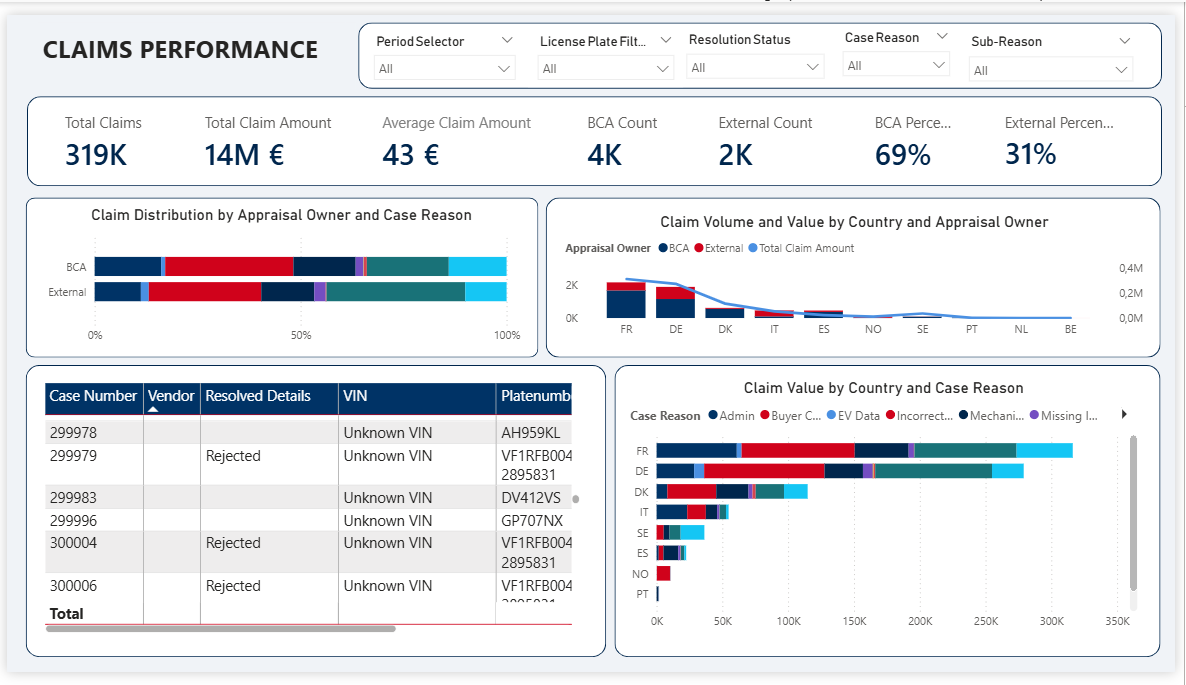

The page's visual inventory and layout, read from the dashboard file:
{"tool":"powerbi","page":{"name":"GLOBAL VIEW","canvas":[1280,720],"ordinal":1},"visuals":[{"type":"shape","box":[21.6,89.1,1243.8,98.6],"z":0},{"type":"shape","box":[384.9,8.2,880.8,72.6],"z":1000},{"type":"shape","box":[590.2,199.9,673.9,175.6],"z":2000},{"type":"shape","box":[665.8,383.5,598.3,320.1],"z":3000},{"type":"shape","box":[20.3,199.9,561.8,175.6],"z":4000},{"type":"slicer","fields":{"Values":["Fact_Claims.Date/Time Closed.Variation.Date Hierarchy.Year","Fact_Claims.Date/Time Closed.Variation.Date Hierarchy.Month"]},"box":[391.8,15.1,175.3,60.3],"z":5000},{"type":"slicer","fields":{"Values":["Fact_Claims.Resolved Details"]},"box":[734.2,13.7,171.2,60.3],"z":6000},{"type":"slicer","fields":{"Values":["Fact_Claims.Case Reason Sub Def"]},"box":[1043.8,15.1,200,60.3],"z":7000},{"type":"cardVisual","fields":{"Data":["Fact_Claims.Total Claims"]},"box":[33.8,94.5,154,89.1],"z":8000},{"type":"cardVisual","fields":{"Data":["Fact_Claims.Total Claim Amount"]},"box":[187.7,94.5,197.2,89.1],"z":9000},{"type":"cardVisual","fields":{"Data":["Fact_Claims.Average Claim Amount"]},"box":[382.2,94.5,224.2,89.1],"z":10000},{"type":"cardVisual","fields":{"Data":["Fact_Claims.BCA Count"]},"box":[606.4,94.5,144.5,89.1],"z":11000},{"type":"cardVisual","fields":{"Data":["Fact_Claims.External Count"]},"box":[750.9,94.5,171.5,89.1],"z":12000},{"type":"lineStackedColumnComboChart","title":"Claim Volume and Value by Country and Appraisal Owner","fields":{"Category":["Dim_Vehicle.Country"],"Y":["CountNonNull(Fact_Claims.Case ID)"],"Y2":["Fact_Claims.Total Claim Amount"],"Series":["Dim_Vehicle.Appraisal Owner"]},"box":[606.4,216.1,644.2,145.9],"z":13000},{"type":"barChart","title":"Claim Value by Country and Case Reason","fields":{"Category":["Dim_Vehicle.Country"],"Series":["Fact_Claims.Case Reason"],"Y":["Fact_Claims.Total Claim Amount"]},"box":[684.7,398.4,560.5,291.7],"z":14000},{"type":"hundredPercentStackedBarChart","title":"Claim Distribution by Appraisal Owner and Case Reason","fields":{"Y":["Fact_Claims.Total Claim Amount"],"Category":["Dim_Vehicle.Appraisal Owner"],"Series":["Fact_Claims.Case Reason"]},"box":[33.8,208,533.4,160.7],"z":15000},{"type":"cardVisual","fields":{"Data":["Fact_Claims.BCA Percentage"]},"box":[921.9,94.5,142.5,89],"z":16000},{"type":"cardVisual","fields":{"Data":["Fact_Claims.External Percentage"]},"box":[1064.4,93.2,180.8,91.8],"z":17000},{"type":"shape","box":[20.3,383.5,636.1,320.1],"z":18000},{"type":"tableEx","fields":{"Values":["Fact_Claims.Case Number","Fact_Claims.Vendor","Fact_Claims.Resolved Details","Fact_Claims.VIN","Fact_Claims.Platenumber","Dim_Vehicle.Appraisal Owner","Sum(Fact_Claims.Total cost)"]},"box":[35.1,398.4,596.9,283.6],"z":19000},{"type":"slicer","fields":{"Values":["Fact_Claims.Case Reason"]},"box":[905.5,11,138.4,65.8],"z":20000},{"type":"slicer","fields":{"Values":["Fact_Claims.Platenumber"]},"box":[571.2,15.1,169.9,64.4],"z":21000},{"type":"textbox","box":[34.2,8.2,347.9,72.6],"z":22000}]}

Visuals, with their boxes in screenshot pixels (x1, y1, x2, y2), scaled from the page's 1280x720 canvas onto the 1186x685 screenshot:
shape: locate(20, 85, 1172, 179)
shape: locate(357, 8, 1173, 77)
shape: locate(547, 190, 1171, 357)
shape: locate(617, 365, 1171, 669)
shape: locate(19, 190, 539, 357)
slicer - Fact_Claims.Date/Time Closed.Variation.Date Hierarchy.Year x Fact_Claims.Date/Time Closed.Variation.Date Hierarchy.Month: locate(363, 14, 525, 72)
slicer - Fact_Claims.Resolved Details: locate(680, 13, 839, 70)
slicer - Fact_Claims.Case Reason Sub Def: locate(967, 14, 1152, 72)
cardVisual - Fact_Claims.Total Claims: locate(31, 90, 174, 175)
cardVisual - Fact_Claims.Total Claim Amount: locate(174, 90, 357, 175)
cardVisual - Fact_Claims.Average Claim Amount: locate(354, 90, 562, 175)
cardVisual - Fact_Claims.BCA Count: locate(562, 90, 696, 175)
cardVisual - Fact_Claims.External Count: locate(696, 90, 855, 175)
"Claim Volume and Value by Country and Appraisal Owner" lineStackedColumnComboChart: locate(562, 206, 1159, 344)
"Claim Value by Country and Case Reason" barChart: locate(634, 379, 1154, 657)
"Claim Distribution by Appraisal Owner and Case Reason" hundredPercentStackedBarChart: locate(31, 198, 526, 351)
cardVisual - Fact_Claims.BCA Percentage: locate(854, 90, 986, 175)
cardVisual - Fact_Claims.External Percentage: locate(986, 89, 1154, 176)
shape: locate(19, 365, 608, 669)
tableEx - Fact_Claims.Case Number x Fact_Claims.Vendor: locate(33, 379, 586, 649)
slicer - Fact_Claims.Case Reason: locate(839, 10, 967, 73)
slicer - Fact_Claims.Platenumber: locate(529, 14, 687, 76)
textbox: locate(32, 8, 354, 77)
